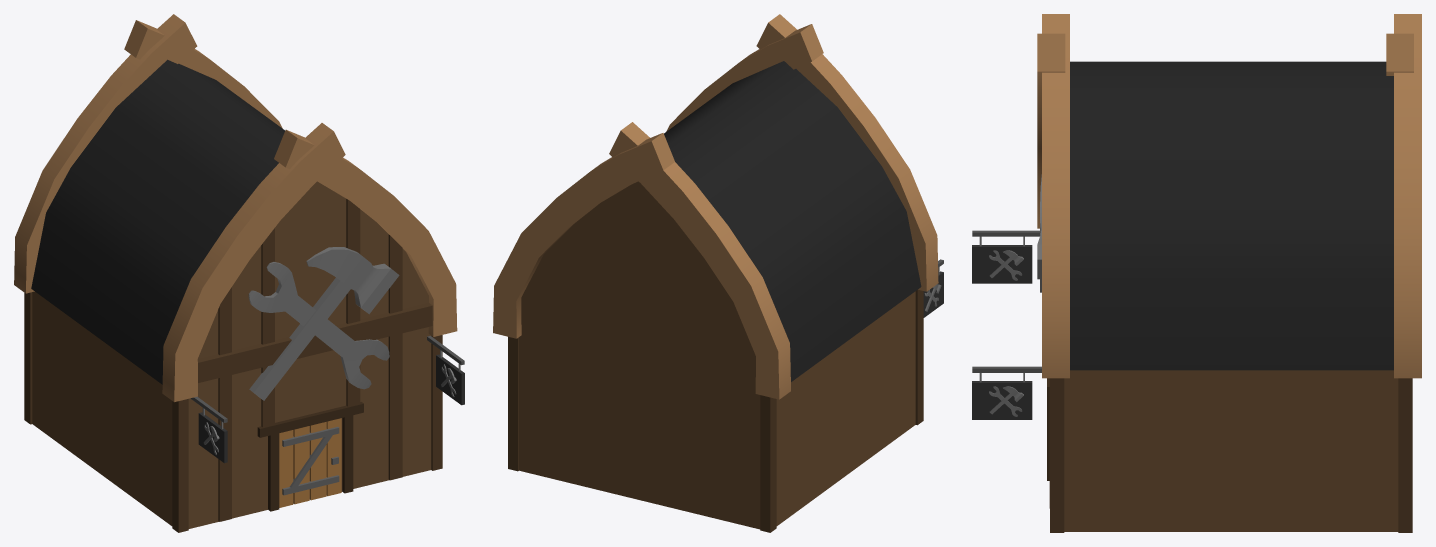
The model's file is GereedschapWinkel.fbx.
3 views of the same model, side by side, from view 1: azimuth 30°, elevation 25°; view 2: azimuth 150°, elevation 25°; view 3: azimuth 270°, elevation 25° (orthographic). The views are drawn at different scales.
Visible parts, largest first — view 1: Gereedschapwinkel; view 2: Gereedschapwinkel; view 3: Gereedschapwinkel.
Boxes of the visible parts, <box> form: Gereedschapwinkel: <box>14,14,464,532</box>; Gereedschapwinkel: <box>493,14,943,532</box>; Gereedschapwinkel: <box>972,14,1421,532</box>.
Size of the model in its own units: 2.8 by 3.47 by 3.26.
